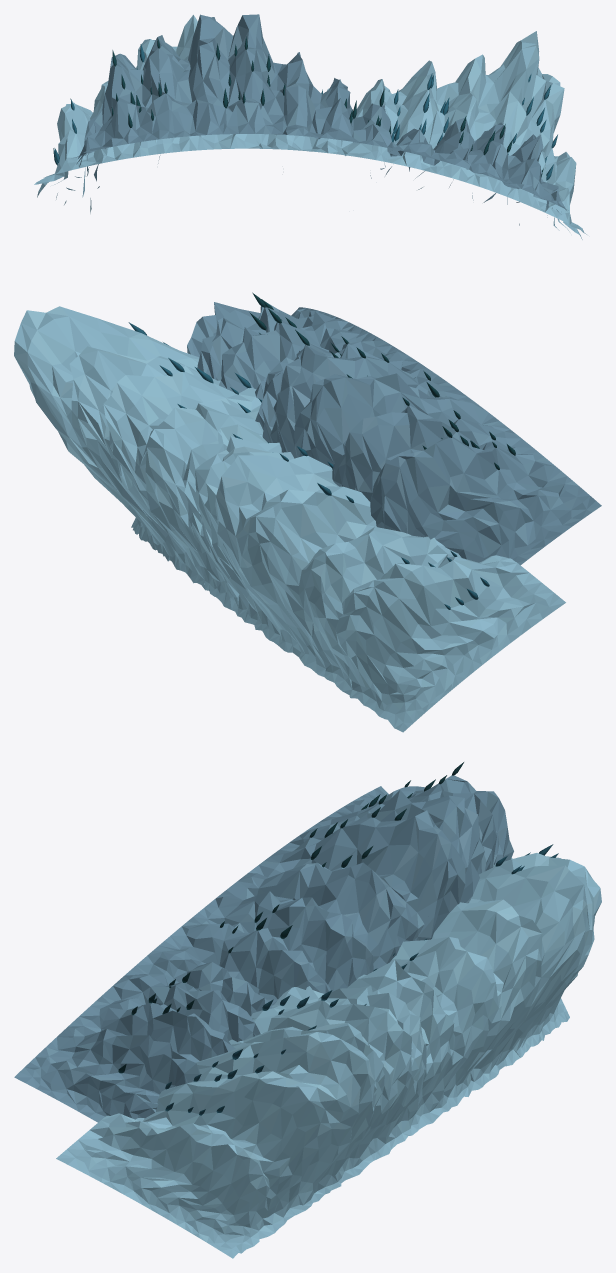
Rendered from citadel-low-backdrop-v8.glb.
3 views of the same model, one above another, from view 1: azimuth 30°, elevation 25°; view 2: azimuth 150°, elevation 25°; view 3: azimuth 270°, elevation 25° (orthographic). The views are drawn at different scales.
Parts seen in each view (by area): view 1: citadel-backdrop-ridge-near, citadel-backdrop-ridge-mid; view 2: citadel-backdrop-ridge-mid, citadel-backdrop-ridge-near; view 3: citadel-backdrop-ridge-mid, citadel-backdrop-ridge-near.
Part boxes in pixels (x1,y1,x2,y2): citadel-backdrop-ridge-near: (74,14,568,225); citadel-backdrop-ridge-mid: (34,15,586,239); citadel-backdrop-ridge-mid: (14,306,565,732); citadel-backdrop-ridge-near: (187,302,601,565); citadel-backdrop-ridge-mid: (56,853,601,1258); citadel-backdrop-ridge-near: (14,775,513,1122).
Bounding box in the file's own units: 124 × 60.95 × 104.
